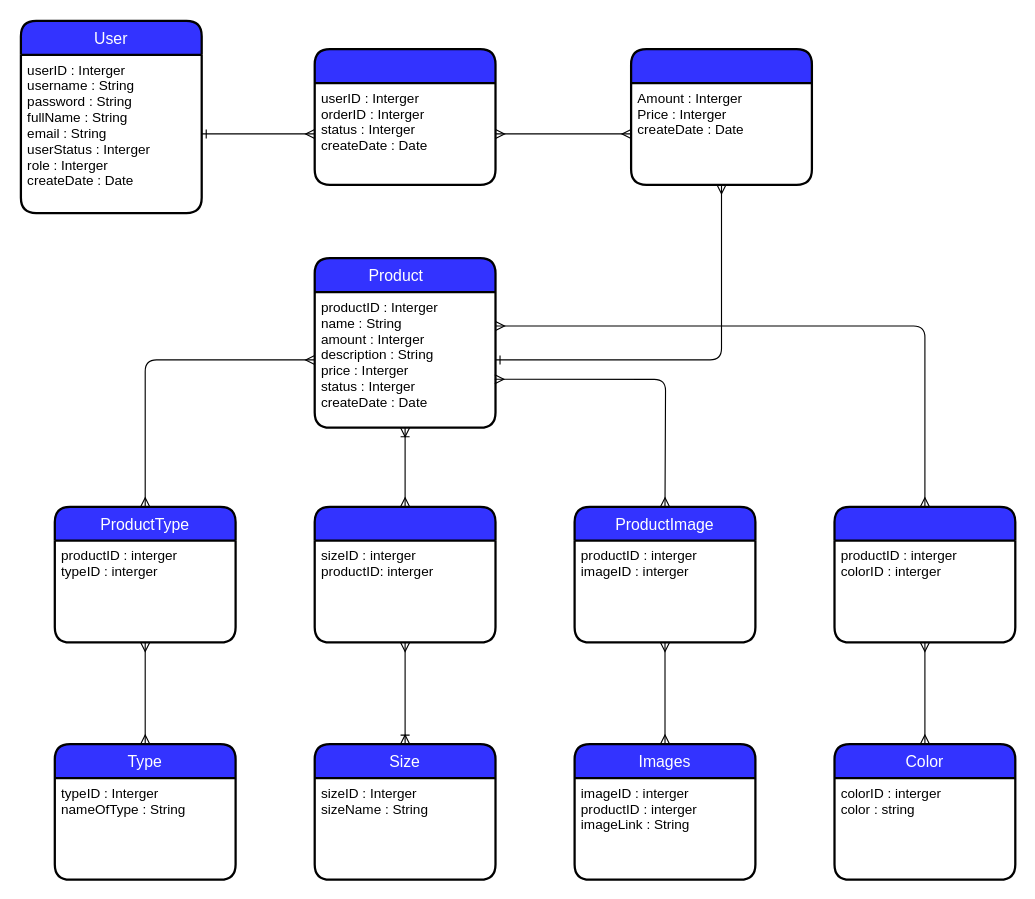
This 1035x899 diagram has some shape labels left out. Here are the shapes that lost their labels. From the top down, the box of each, then its label:
(313, 47, 496, 185): orderList (cart)
(629, 47, 812, 185): Order item
(313, 505, 496, 643): ProductSize
(833, 505, 1016, 643): ProductColor
